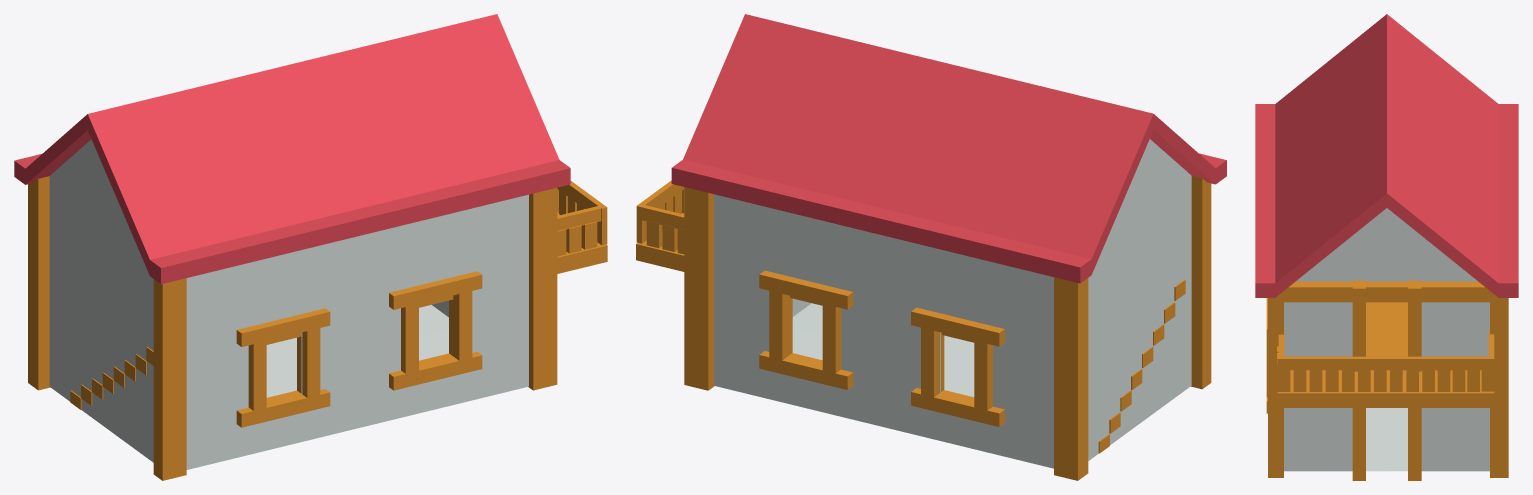
Rendered from Building2.fbx.
3 renders of one model, left to right at view 1: azimuth 30°, elevation 25°; view 2: azimuth 150°, elevation 25°; view 3: azimuth 270°, elevation 25°, orthographic. The views are drawn at different scales.
Parts seen in each view (by area): view 1: Cube, Cube.004, Cube.001, Cube.003, Cube.045, Cube.049, Cube.044, Cube.046, Cube.048, Cube.043, Cube.042, Cube.047 (+3 smaller); view 2: Cube, Cube.003, Cube.002, Cube.004, Cube.041, Cube.036, Cube.034, Cube.039, Cube.037, Cube.038, Cube.035, Cube.040 (+2 smaller); view 3: Cube, Cube.005, Cube.006, Cube.002, Cube.031, Cube.001, Cube.050, Cube.051, Cube.054, Cube.053, Cube.018, Cube.017 (+9 smaller).
Part boxes in pixels (x1=…): Cube: x1=14, y1=14, x2=570, y2=469; Cube.004: x1=153, y1=278, x2=186, y2=480; Cube.001: x1=528, y1=188, x2=557, y2=390; Cube.003: x1=28, y1=176, x2=50, y2=390; Cube.045: x1=236, y1=308, x2=330, y2=346; Cube.049: x1=449, y1=290, x2=472, y2=372; Cube.044: x1=236, y1=389, x2=330, y2=427; Cube.046: x1=389, y1=271, x2=482, y2=309; Cube.048: x1=401, y1=290, x2=418, y2=385; Cube.043: x1=248, y1=328, x2=266, y2=422; Cube.042: x1=297, y1=328, x2=320, y2=397; Cube.047: x1=389, y1=352, x2=482, y2=390; Cube: x1=671, y1=14, x2=1226, y2=468; Cube.003: x1=1054, y1=277, x2=1088, y2=480; Cube.002: x1=684, y1=187, x2=714, y2=390; Cube.004: x1=1191, y1=176, x2=1211, y2=389; Cube.041: x1=921, y1=314, x2=944, y2=409; Cube.036: x1=759, y1=351, x2=853, y2=389; Cube.034: x1=769, y1=277, x2=792, y2=360; Cube.039: x1=911, y1=388, x2=1004, y2=426; Cube.037: x1=759, y1=270, x2=853, y2=309; Cube.038: x1=911, y1=307, x2=1004, y2=346; Cube.035: x1=822, y1=290, x2=841, y2=373; Cube.040: x1=974, y1=327, x2=992, y2=410; Cube: x1=1255, y1=14, x2=1518, y2=471; Cube.005: x1=1277, y1=302, x2=1494, y2=407; Cube.006: x1=1284, y1=281, x2=1494, y2=302; Cube.002: x1=1490, y1=291, x2=1508, y2=477; Cube.031: x1=1277, y1=356, x2=1493, y2=370; Cube.001: x1=1268, y1=291, x2=1283, y2=477; Cube.050: x1=1352, y1=280, x2=1365, y2=371; Cube.051: x1=1408, y1=280, x2=1421, y2=371; Cube.054: x1=1352, y1=408, x2=1365, y2=480; Cube.053: x1=1408, y1=408, x2=1421, y2=480; Cube.018: x1=1293, y1=369, x2=1306, y2=391; Cube.017: x1=1277, y1=369, x2=1290, y2=391.
Bounding box in the file's own units: 1184 × 790 × 656.
